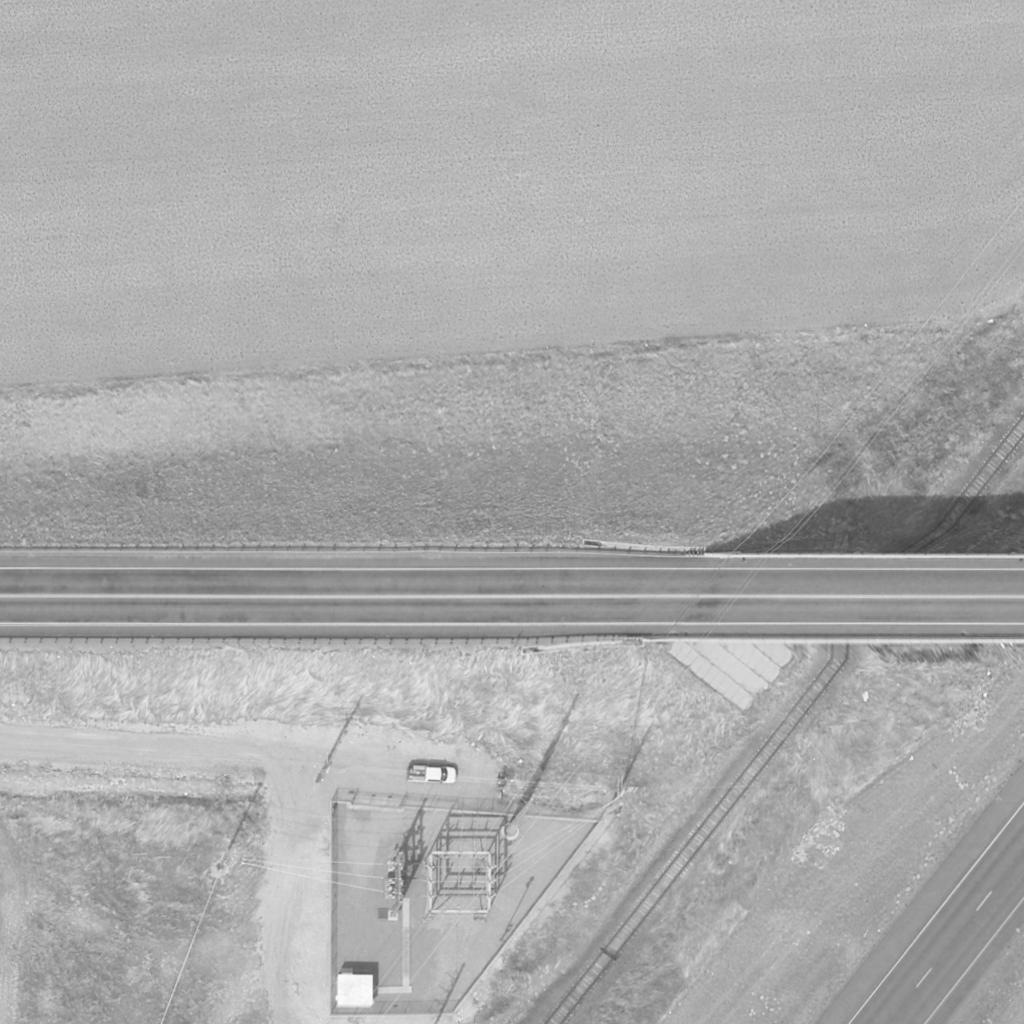vehicle: (406, 765, 458, 785)
